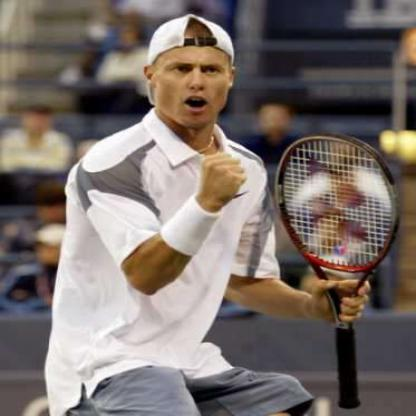face: (151, 21, 236, 129), (262, 103, 291, 137), (22, 105, 47, 135)
